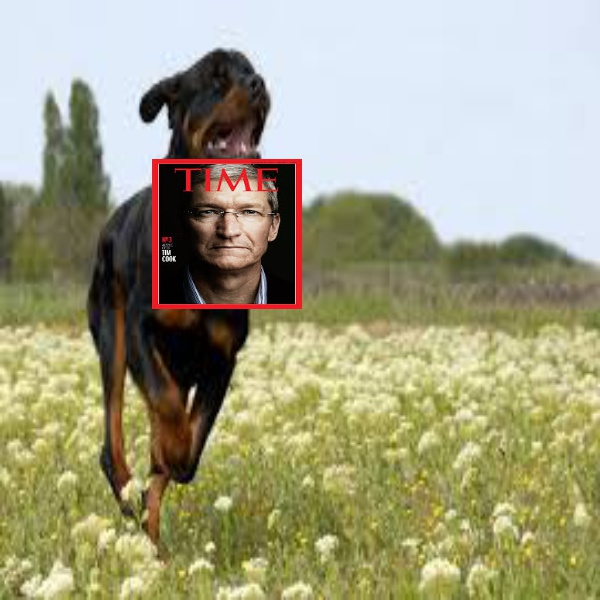time_cover: (142, 157, 307, 311)
